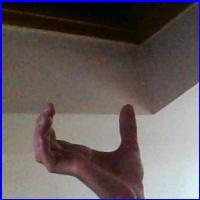space: (27, 93, 162, 191)
